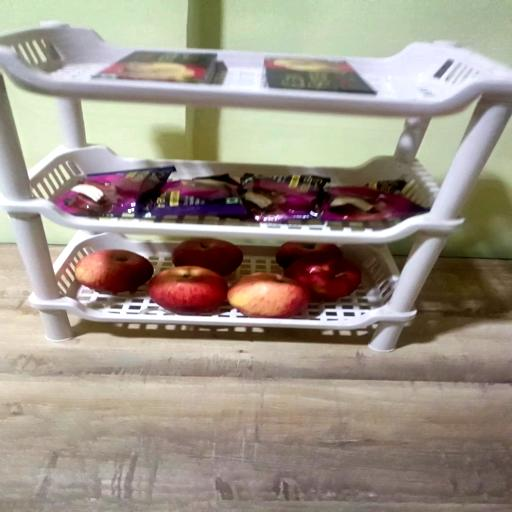Apple: (148, 266, 228, 315), (227, 273, 309, 318), (75, 250, 154, 294), (285, 256, 361, 301), (172, 239, 243, 276), (276, 242, 342, 269)
Choco Fills: (265, 57, 376, 95), (94, 51, 216, 83)
Choco Pie: (55, 166, 175, 217), (321, 178, 429, 221), (146, 174, 247, 217), (240, 174, 329, 222)
